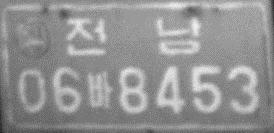0: (17, 66, 46, 114)
3: (227, 64, 260, 115)
4: (155, 65, 186, 114)
5: (190, 64, 222, 116)
6: (51, 67, 82, 115)
8: (118, 65, 150, 116)
바: (86, 71, 112, 111)
영: (12, 17, 54, 61)
전남_D: (64, 15, 203, 56)
